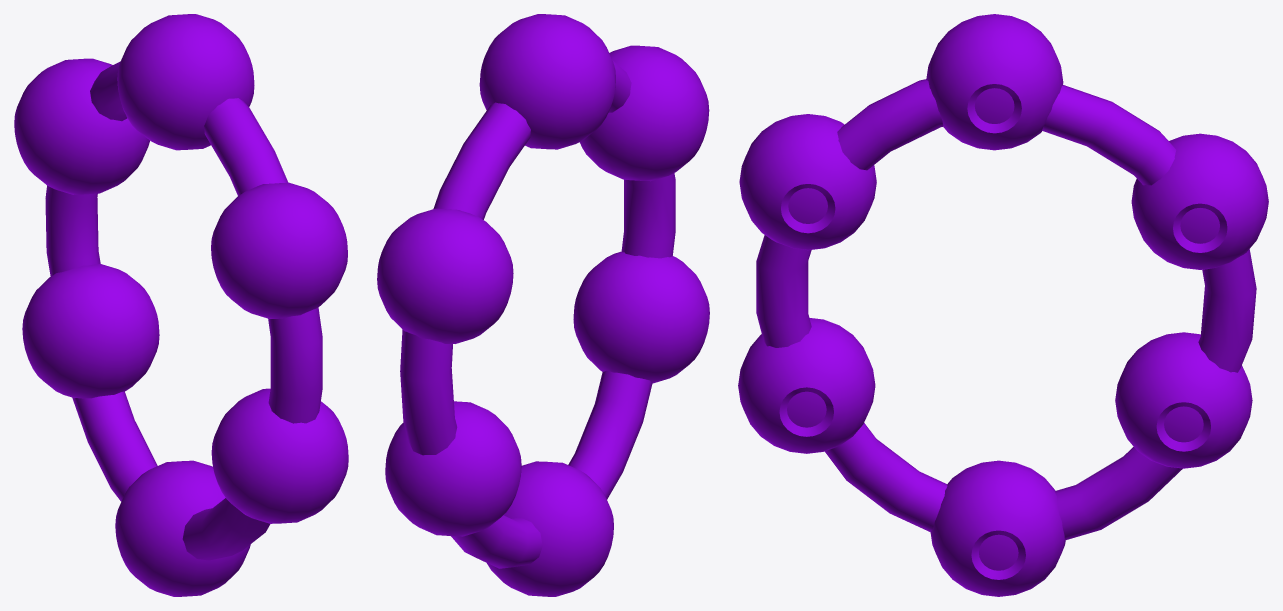
Rendered from WeaponSphere.fbx.
The picture shows the model from 3 angles, left to right: view 1: azimuth 30°, elevation 25°; view 2: azimuth 150°, elevation 25°; view 3: azimuth 270°, elevation 25°; orthographic projection.
Visible parts, largest first — view 1: Weapon_Sphere; view 2: Weapon_Sphere; view 3: Weapon_Sphere.
Boxes of the visible parts, x1,y1,x2,y2 form: Weapon_Sphere: (14, 14, 348, 596); Weapon_Sphere: (377, 14, 709, 596); Weapon_Sphere: (738, 14, 1268, 596).
Bounding box in the file's own units: 5.3 × 25.42 × 21.41.
